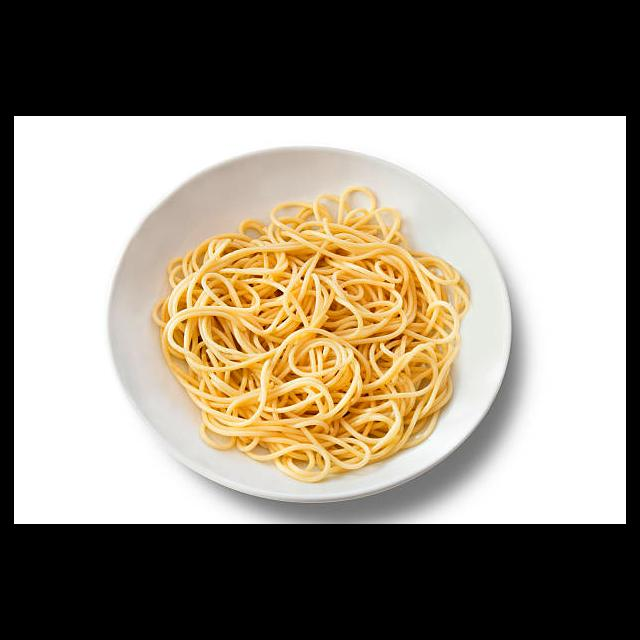noodles: (149, 185, 472, 483)
